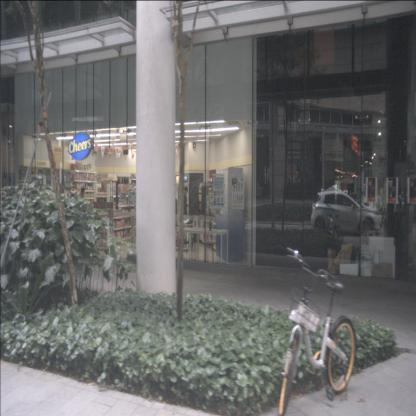human-pedestrian-adult: (76, 187, 86, 241), (180, 187, 189, 241)
vehicle-bicycle: (278, 246, 356, 416), (319, 203, 343, 245)
vehicle-car: (310, 190, 382, 236)
